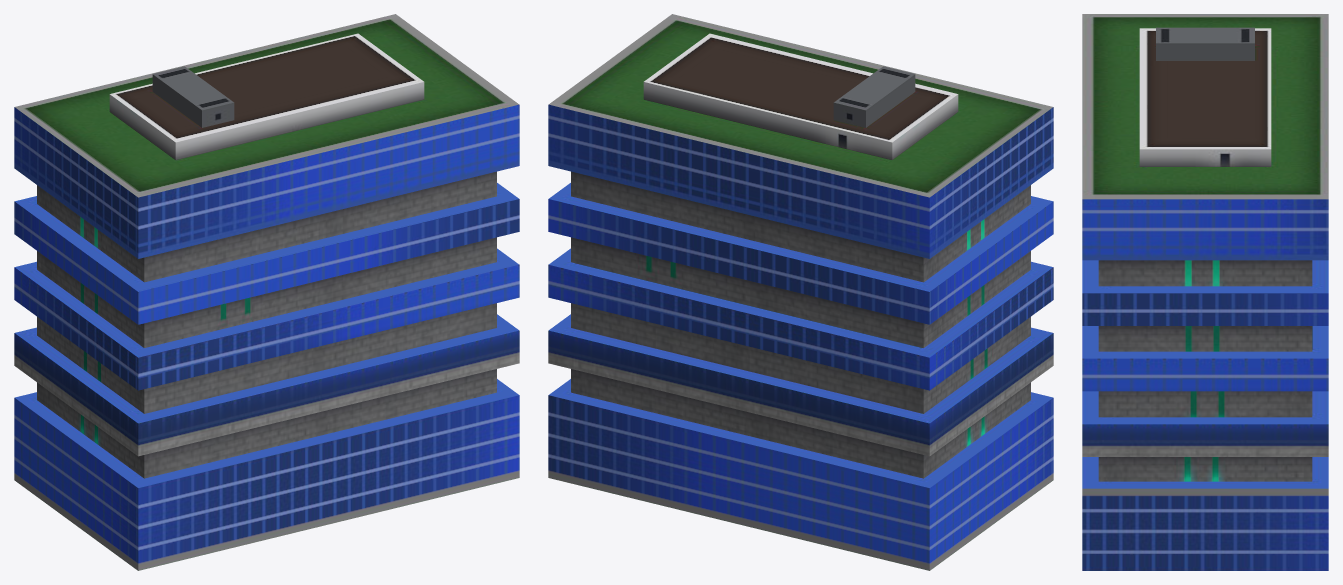
The model's file is House_35.FBX.
3 views of the same model, side by side, from view 1: azimuth 30°, elevation 25°; view 2: azimuth 150°, elevation 25°; view 3: azimuth 270°, elevation 25° (orthographic).
Visible parts, largest first — view 1: House_35; view 2: House_35; view 3: House_35.
Part boxes in pixels (<box>): House_35: <box>14,14,519,570</box>; House_35: <box>548,14,1053,570</box>; House_35: <box>1082,14,1328,570</box>.
Size of the model in its own units: 32.65 by 33.45 by 18.35.
1 material, 1 textured.
